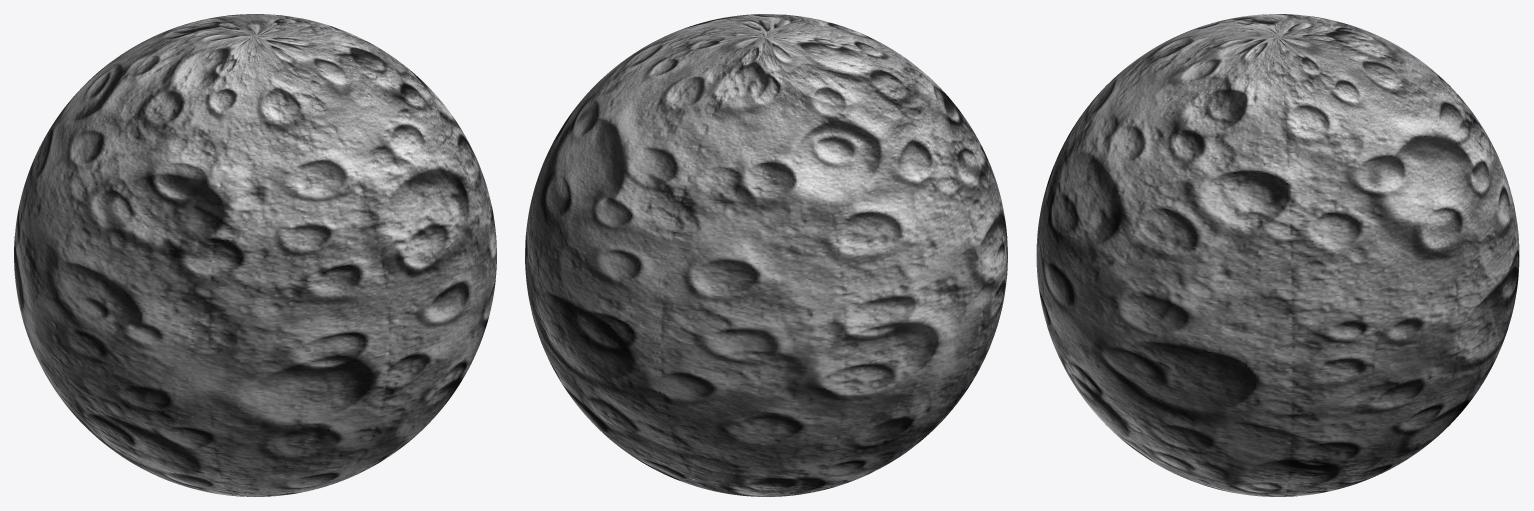
The model's file is Luna2.obj.
3 views of the same model, side by side, from view 1: azimuth 30°, elevation 25°; view 2: azimuth 150°, elevation 25°; view 3: azimuth 270°, elevation 25° (orthographic).
Visible parts, largest first — view 1: Moon_Sphere.001; view 2: Moon_Sphere.001; view 3: Moon_Sphere.001.
Part boxes in pixels (bbox=[...]): Moon_Sphere.001: bbox=[14, 14, 496, 496]; Moon_Sphere.001: bbox=[525, 14, 1007, 496]; Moon_Sphere.001: bbox=[1036, 14, 1519, 496].
Bounding box in the file's own units: 2 × 2 × 2.
